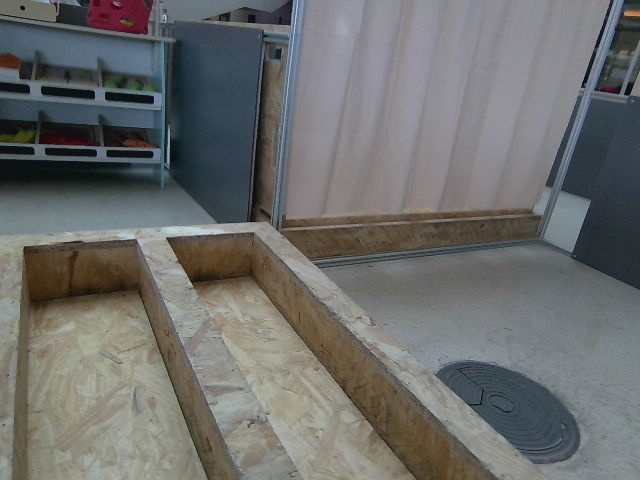curtain: (269, 0, 621, 216)
